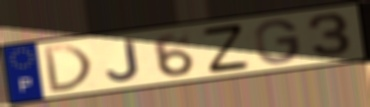3: (304, 12, 355, 59)
6: (152, 31, 197, 78)
D: (40, 43, 95, 94)
G: (253, 18, 302, 66)
J: (104, 37, 142, 83)
Z: (200, 21, 252, 75)
